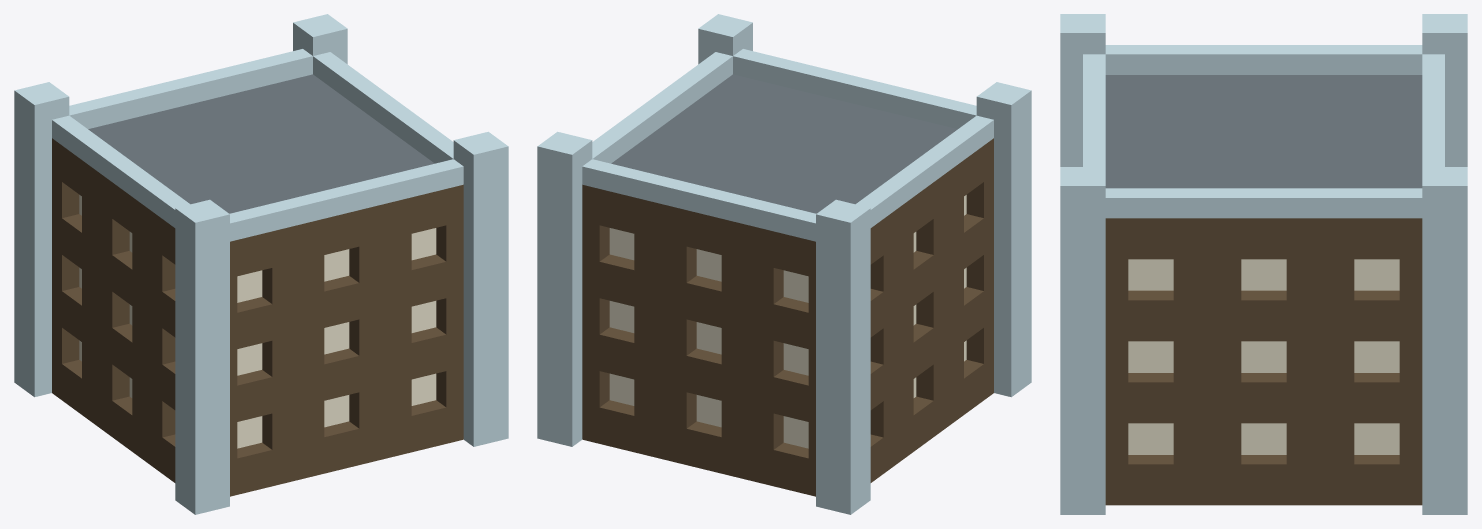
The model's file is Building_11 (Brown).obj.
3 views of the same model, side by side, from view 1: azimuth 30°, elevation 25°; view 2: azimuth 150°, elevation 25°; view 3: azimuth 270°, elevation 25° (orthographic). The views are drawn at different scales.
Parts seen in each view (by area): view 1: Building_11_(Brown); view 2: Building_11_(Brown); view 3: Building_11_(Brown).
Boxes of the visible parts, x1,y1,x2,y2 form: Building_11_(Brown): (14, 14, 508, 514); Building_11_(Brown): (537, 14, 1031, 514); Building_11_(Brown): (1060, 14, 1467, 514).
Bounding box in the file's own units: 1.8 × 1.6 × 1.8.
